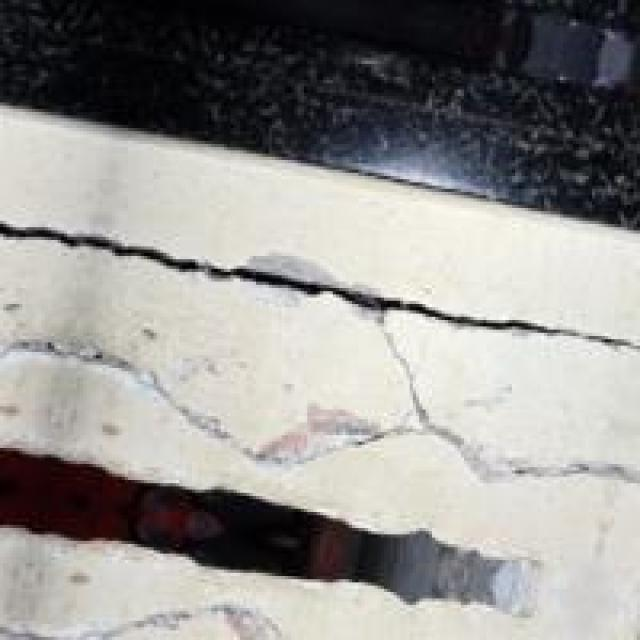Crack: (0, 166, 637, 637)
